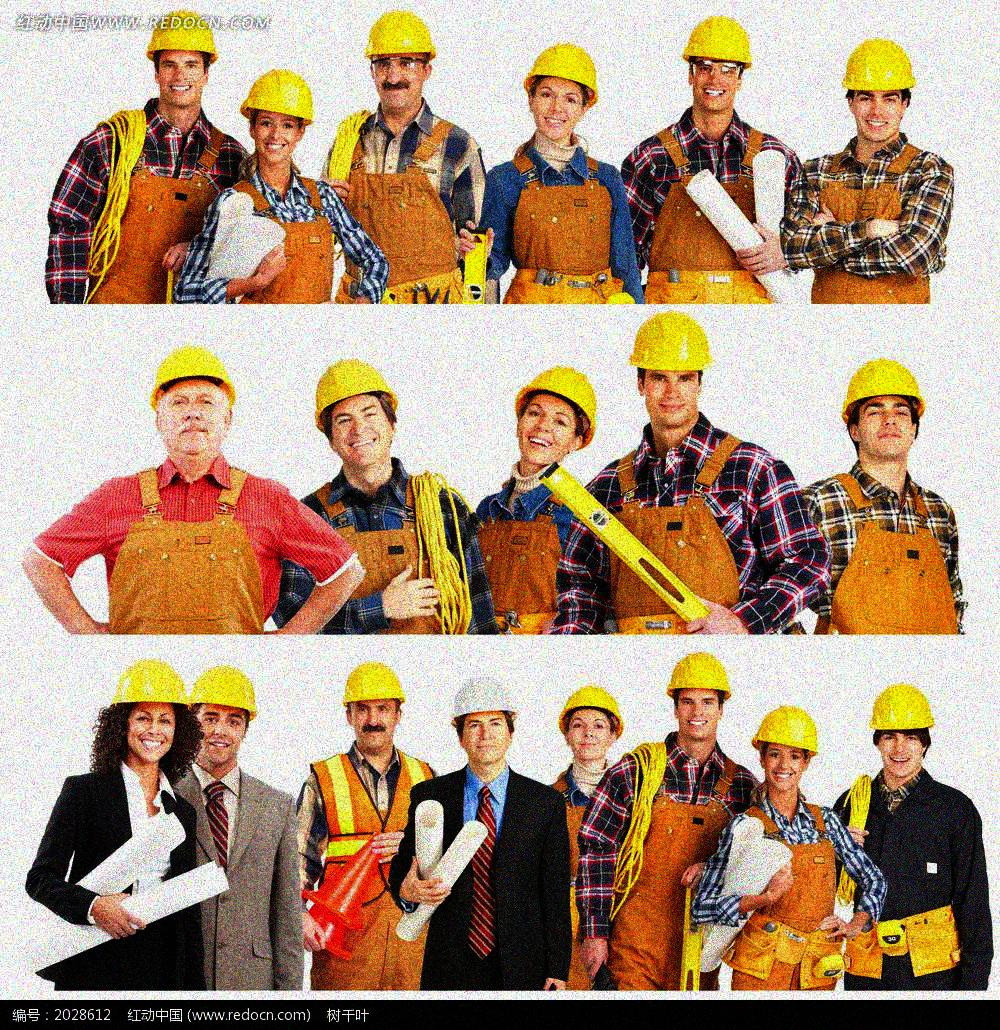helmet: (313, 355, 402, 469), (111, 657, 196, 776), (151, 345, 240, 456), (629, 309, 713, 426), (839, 360, 926, 461), (839, 36, 919, 142), (143, 7, 226, 109), (519, 41, 600, 143), (363, 8, 438, 116), (510, 365, 600, 453), (679, 14, 756, 116), (240, 68, 319, 161), (193, 660, 259, 769), (340, 659, 409, 757), (869, 678, 937, 775), (666, 650, 735, 744), (554, 683, 629, 765), (752, 703, 819, 794), (453, 673, 516, 769)
